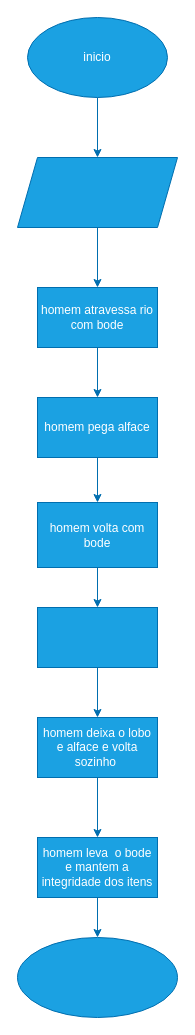
Some shapes in this 195 by 1035 pixel diagram are drawn without their labels. The centre of each missing label's shape, as x and y in pixels:
"fim" goes at pixel 97 977.
"homem deixa o bode e leva o lobo" goes at pixel 97 637.
"homem, lobo, lobo, alfa" goes at pixel 97 192.
